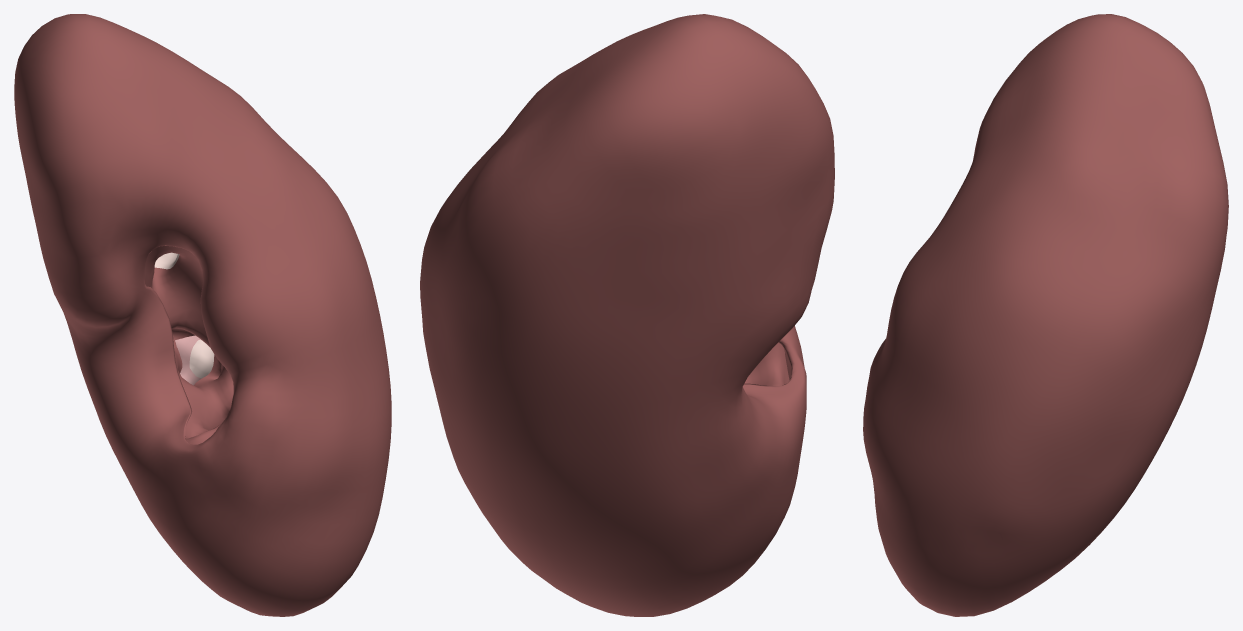
Rendered from kidney-female-left.glb.
3 renders of one model, left to right at view 1: azimuth 30°, elevation 25°; view 2: azimuth 150°, elevation 25°; view 3: azimuth 270°, elevation 25°, orthographic. The views are drawn at different scales.
Parts seen in each view (by area): view 1: VH_F_kidney_capsule_L, VH_F_hilum_of_kidney_L, VH_F_renal_papilla_L_g, VH_F_renal_pyramid_L_g; view 2: VH_F_kidney_capsule_L, VH_F_hilum_of_kidney_L; view 3: VH_F_kidney_capsule_L.
Part boxes in pixels (x1,y1,x2,y2): VH_F_kidney_capsule_L: (14,14,391,616); VH_F_hilum_of_kidney_L: (144,246,233,444); VH_F_renal_papilla_L_g: (189,339,214,378); VH_F_renal_pyramid_L_g: (175,335,201,385); VH_F_kidney_capsule_L: (420,14,834,616); VH_F_hilum_of_kidney_L: (744,342,789,385); VH_F_kidney_capsule_L: (863,14,1228,616).
Bounding box in the file's own units: 0.0731 × 0.1249 × 0.0776.
